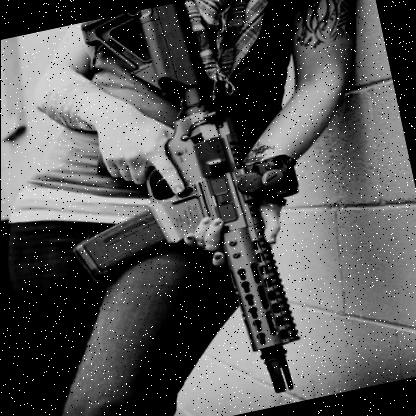rifle: (52, 0, 317, 416)
